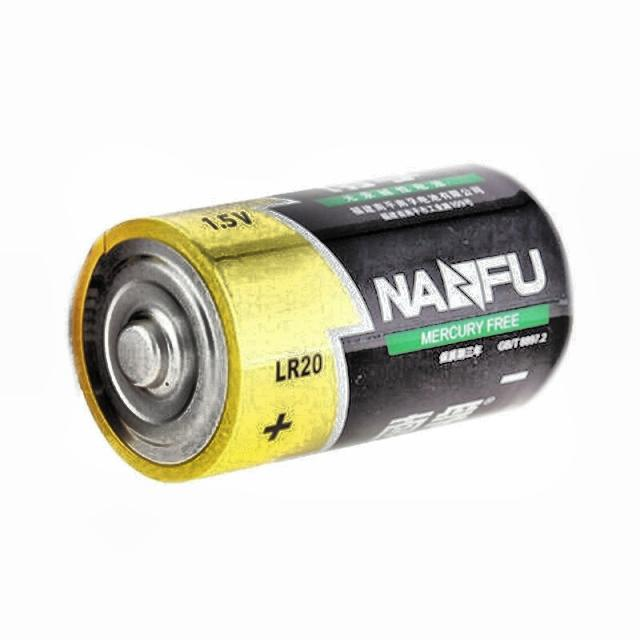Non-Valuable Waste - Batteries: (72, 165, 571, 481)
